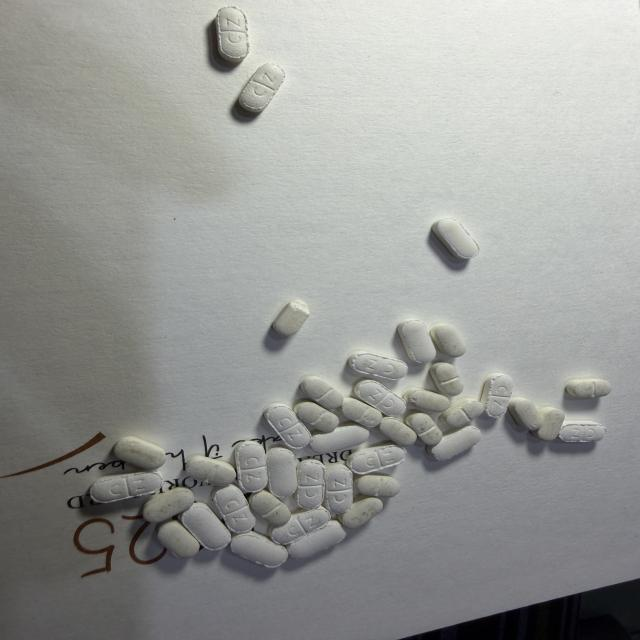pill: (179, 502, 230, 550), (270, 507, 330, 544), (288, 521, 346, 559), (90, 472, 162, 502), (264, 403, 311, 448), (212, 485, 255, 533), (231, 532, 288, 568), (142, 487, 195, 523), (432, 218, 479, 258), (354, 380, 406, 416), (426, 426, 481, 460), (216, 7, 249, 62), (347, 445, 406, 474), (234, 441, 267, 492), (348, 351, 408, 379), (157, 520, 200, 558), (114, 437, 165, 469), (311, 425, 369, 453), (398, 320, 435, 363), (186, 455, 236, 486), (267, 448, 297, 498), (300, 375, 343, 409), (249, 491, 290, 526), (480, 374, 513, 417), (297, 459, 325, 509), (338, 497, 383, 528), (325, 464, 353, 513), (294, 401, 339, 431), (440, 398, 484, 428), (273, 300, 309, 336), (341, 398, 382, 428), (430, 324, 466, 357), (406, 412, 442, 445), (403, 387, 450, 412), (274, 301, 308, 335), (509, 397, 542, 430), (430, 363, 463, 395), (380, 417, 416, 446), (355, 475, 400, 497), (559, 421, 606, 442), (535, 407, 564, 440), (566, 379, 611, 398), (253, 513, 270, 535)
